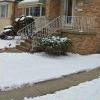stairs: (16, 26, 61, 53)
